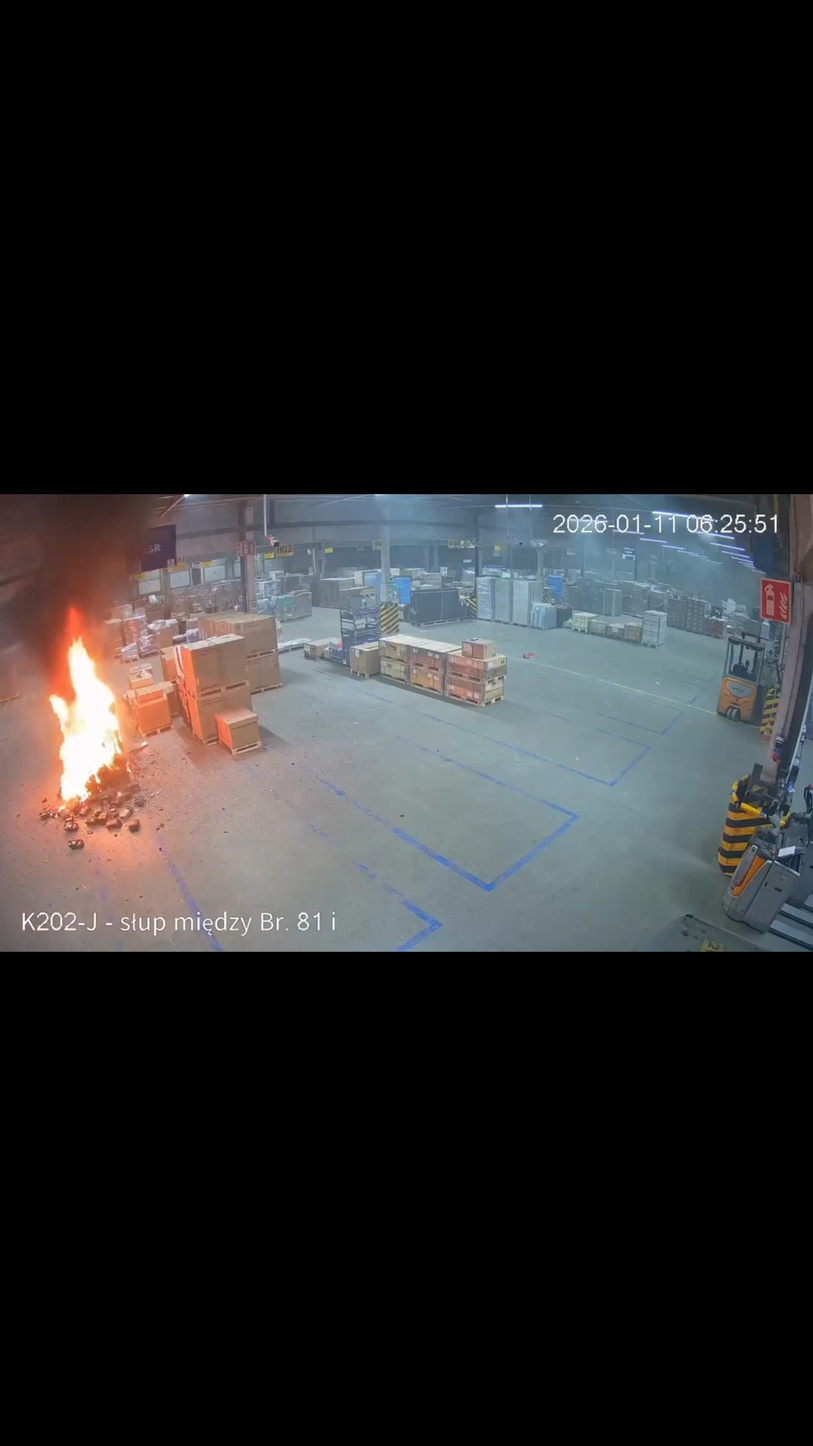fire: (47, 607, 133, 816)
smoke: (1, 496, 154, 697)
